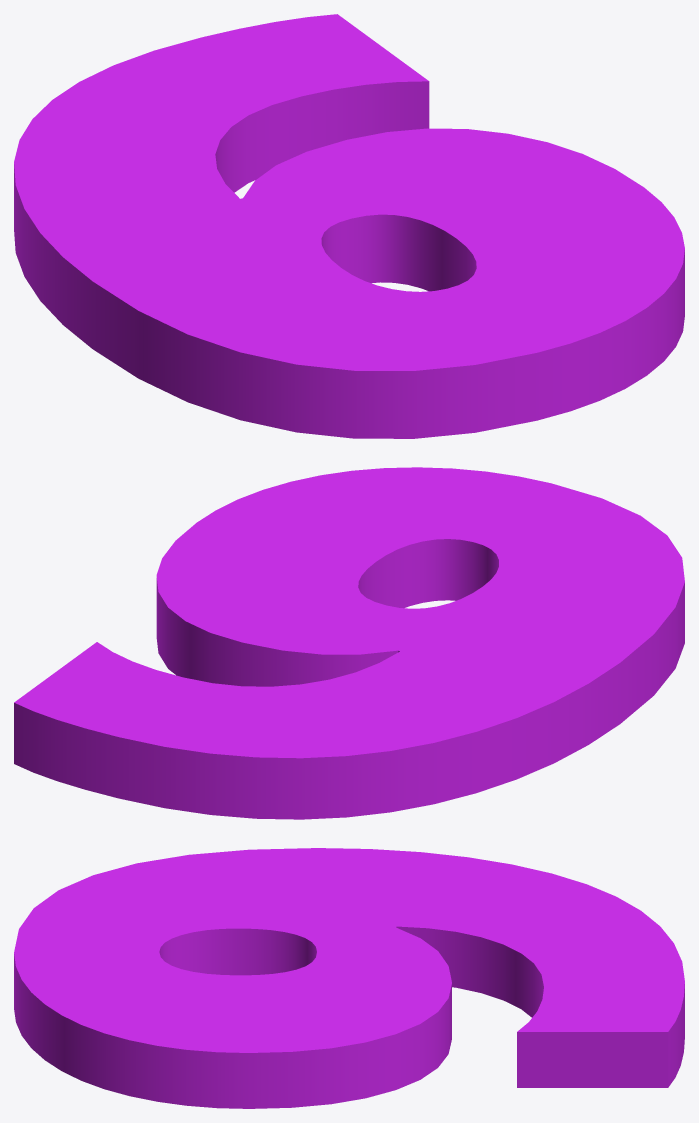
File: NumberModel_6.gltf
3 views of the same model, one above another, from view 1: azimuth 30°, elevation 25°; view 2: azimuth 150°, elevation 25°; view 3: azimuth 270°, elevation 25° (orthographic). The views are drawn at different scales.
Visible parts, largest first — view 1: NumberModel_6; view 2: NumberModel_6; view 3: NumberModel_6.
Part boxes in pixels (left/top/right/bottom): NumberModel_6: left=14, top=14, right=684, bottom=438; NumberModel_6: left=14, top=467, right=684, bottom=819; NumberModel_6: left=14, top=848, right=684, bottom=1108.
Size of the model in its own units: 0.6009 by 0.0764 by 0.8309.
